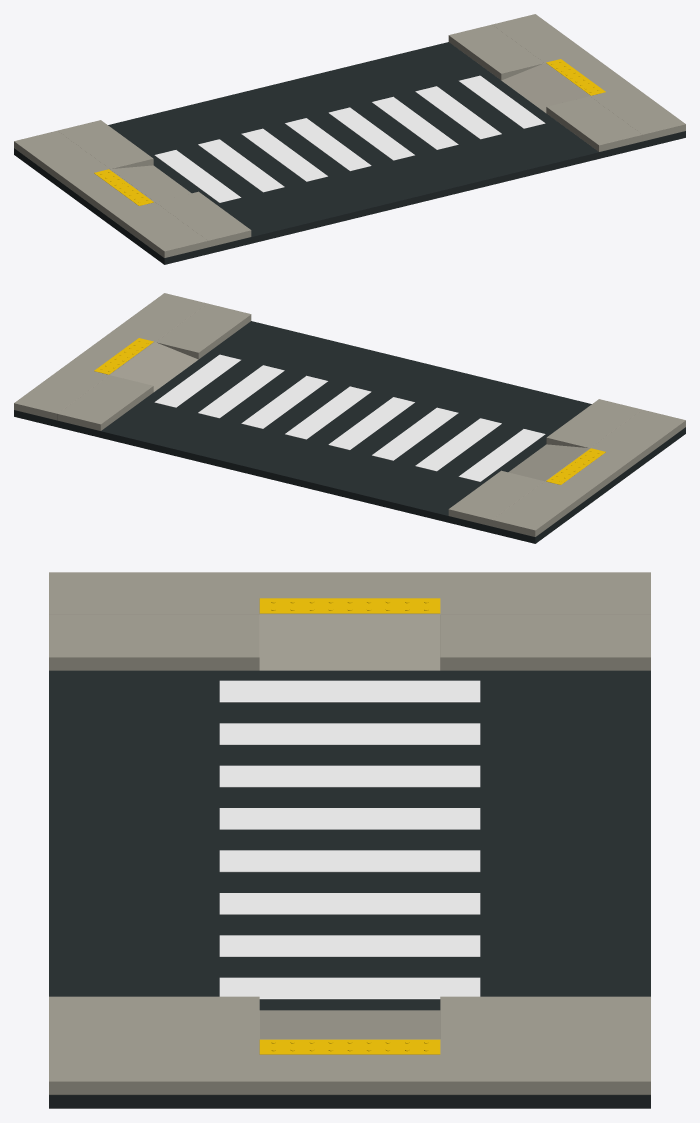
File: pedestrian-crossing.glb
3 views of the same model, one above another, from view 1: azimuth 30°, elevation 25°; view 2: azimuth 150°, elevation 25°; view 3: azimuth 270°, elevation 25° (orthographic). The views are drawn at different scales.
Visible parts, largest first — view 1: Road_Base, Back_Sidewalk.001, Back_Sidewalk, Sidewalk_Wing.002, Sidewalk_Wing.003, Sidewalk_Wing, Sidewalk_Wing.001, Kerb_Ramp.001, Kerb_Ramp, Zebra_Stripe.001, Zebra_Stripe.002, Zebra_Stripe (+7 smaller); view 2: Road_Base, Back_Sidewalk.001, Back_Sidewalk, Sidewalk_Wing.003, Sidewalk_Wing.002, Sidewalk_Wing.001, Sidewalk_Wing, Kerb_Ramp.001, Kerb_Ramp, Zebra_Stripe.001, Zebra_Stripe.002, Zebra_Stripe (+7 smaller); view 3: Road_Base, Back_Sidewalk, Back_Sidewalk.001, Sidewalk_Wing, Sidewalk_Wing.001, Kerb_Ramp, Sidewalk_Wing.002, Sidewalk_Wing.003, Zebra_Stripe, Zebra_Stripe.004, Zebra_Stripe.002, Zebra_Stripe.007 (+7 smaller).
Boxes of the visible parts, box(x1,y1,x2,y2) form: Road_Base: box(14, 42, 685, 264); Back_Sidewalk.001: box(14, 130, 207, 257); Back_Sidewalk: box(492, 14, 685, 141); Sidewalk_Wing.002: box(546, 96, 642, 151); Sidewalk_Wing.003: box(448, 24, 544, 80); Sidewalk_Wing: box(155, 191, 251, 247); Sidewalk_Wing.001: box(58, 120, 153, 168); Kerb_Ramp.001: box(501, 63, 589, 112); Kerb_Ramp: box(110, 165, 191, 202); Zebra_Stripe.001: box(198, 139, 284, 192); Zebra_Stripe.002: box(241, 128, 327, 181); Zebra_Stripe: box(154, 150, 241, 202); Road_Base: box(14, 321, 685, 543); Back_Sidewalk.001: box(492, 409, 685, 536); Back_Sidewalk: box(14, 293, 207, 420); Sidewalk_Wing.003: box(57, 375, 153, 430); Sidewalk_Wing.002: box(155, 303, 251, 359); Sidewalk_Wing.001: box(448, 470, 544, 526); Sidewalk_Wing: box(546, 399, 641, 447); Kerb_Ramp.001: box(110, 342, 198, 391); Kerb_Ramp: box(508, 444, 589, 481); Zebra_Stripe.001: box(415, 418, 501, 471); Zebra_Stripe.002: box(372, 407, 458, 460); Zebra_Stripe: box(458, 429, 545, 481); Road_Base: box(49, 670, 650, 1108); Back_Sidewalk: box(49, 1039, 650, 1094); Back_Sidewalk.001: box(49, 572, 650, 614); Sidewalk_Wing: box(49, 615, 259, 670); Sidewalk_Wing.001: box(440, 615, 650, 670); Kerb_Ramp: box(259, 614, 440, 670); Sidewalk_Wing.002: box(49, 996, 259, 1038); Sidewalk_Wing.003: box(440, 996, 650, 1038); Zebra_Stripe: box(219, 680, 480, 702); Zebra_Stripe.004: box(219, 850, 480, 872); Zebra_Stripe.002: box(219, 765, 480, 787); Zebra_Stripe.007: box(219, 977, 480, 999).
Bounding box in the file's own units: 12 × 0.312 × 6.
